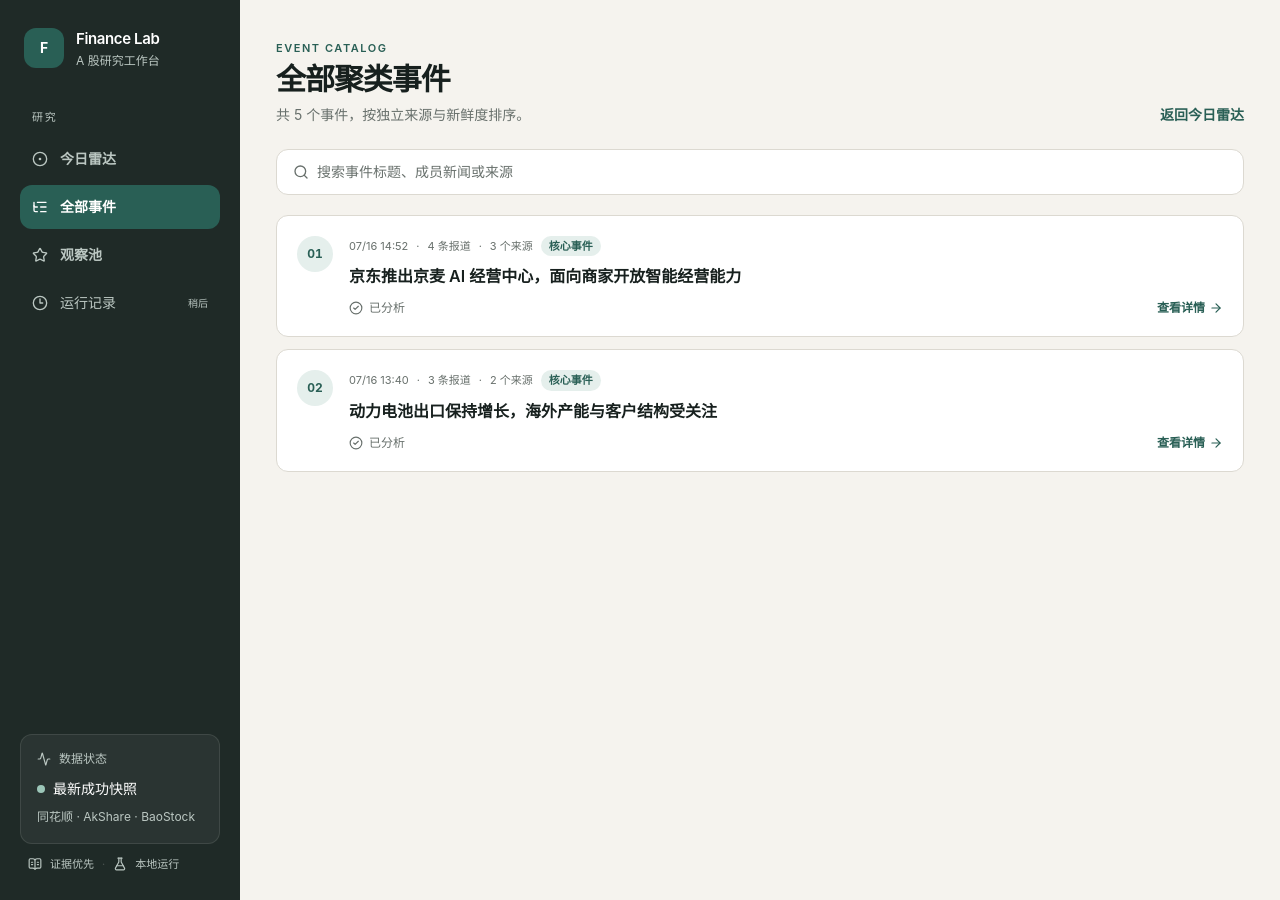
Test: event catalog pages › shows all clustered events and filters them
Expected: the heading "全部聚类事件" is shown, [276,60,450,96]
Expected: the heading "京东推出京麦 AI 经营中心，面向商家开放智能经营能力" is shown, [349,266,741,286]
In the field with placeholder "搜索事件标题、成员新闻或来源": (772, 172) [317,162,1227,182], type "动力电池"
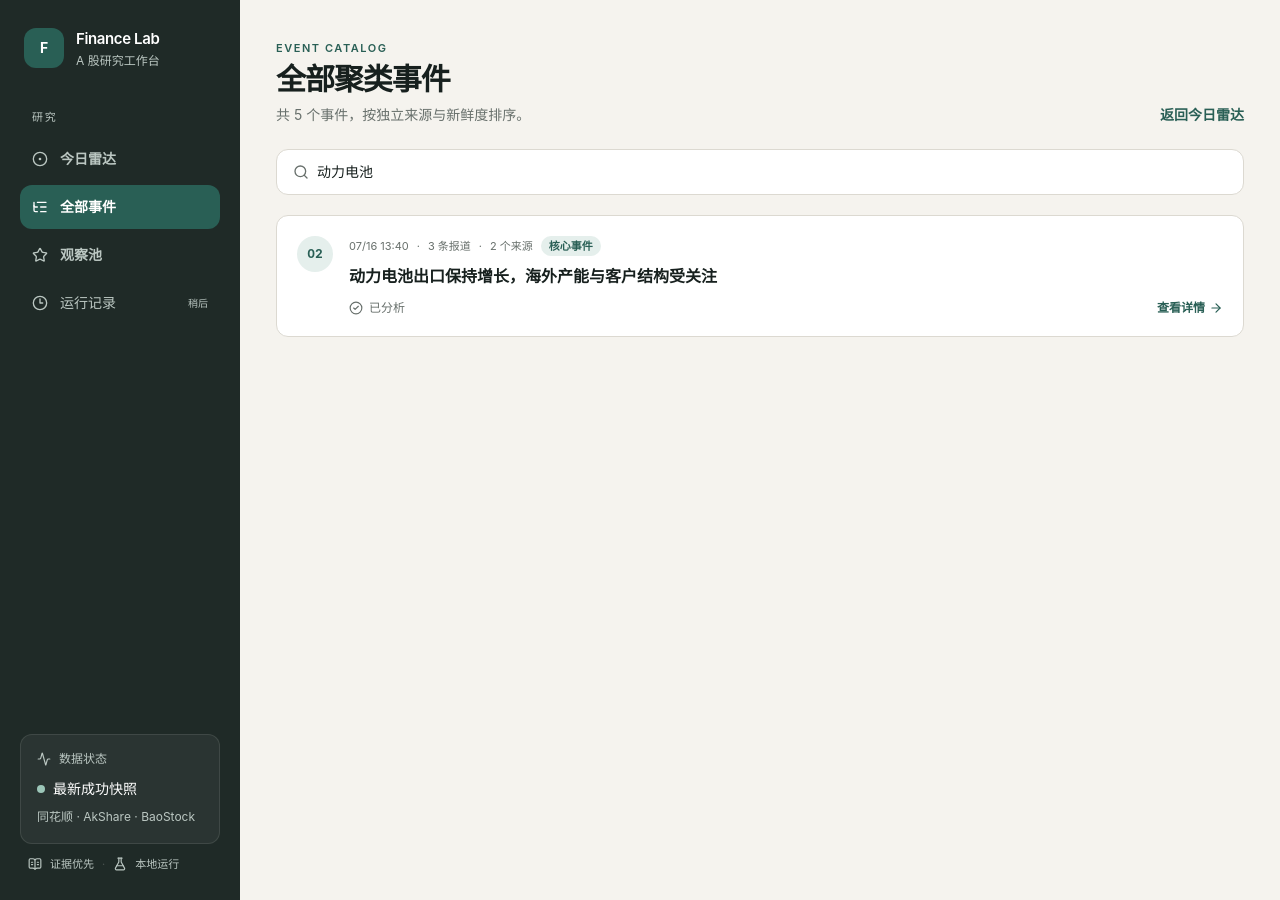
Expected: the heading "动力电池出口保持增长，海外产能与客户结构受关注" is shown, [349,266,717,286]
Now the heading "京东推出京麦 AI 经营中心，面向商家开放智能经营能力" is gone
